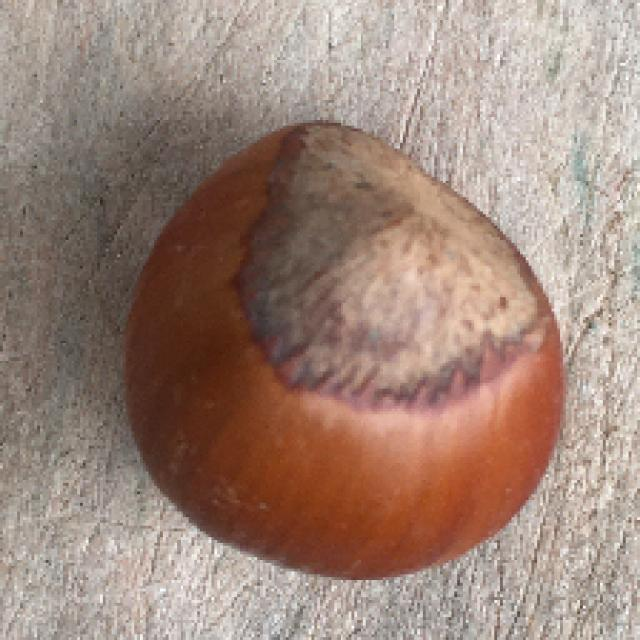QualityHazelnut: (120, 120, 564, 584)
